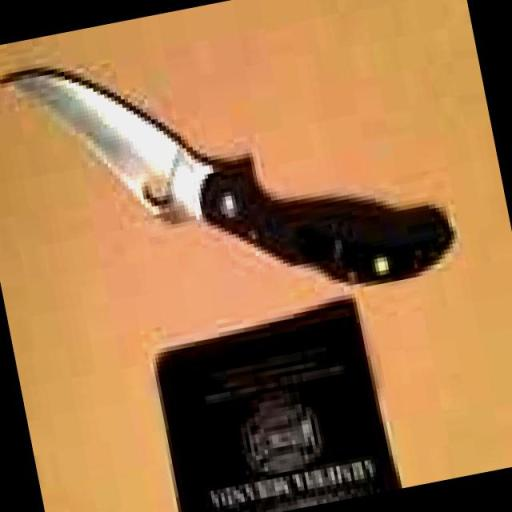knife: (0, 0, 463, 346)
